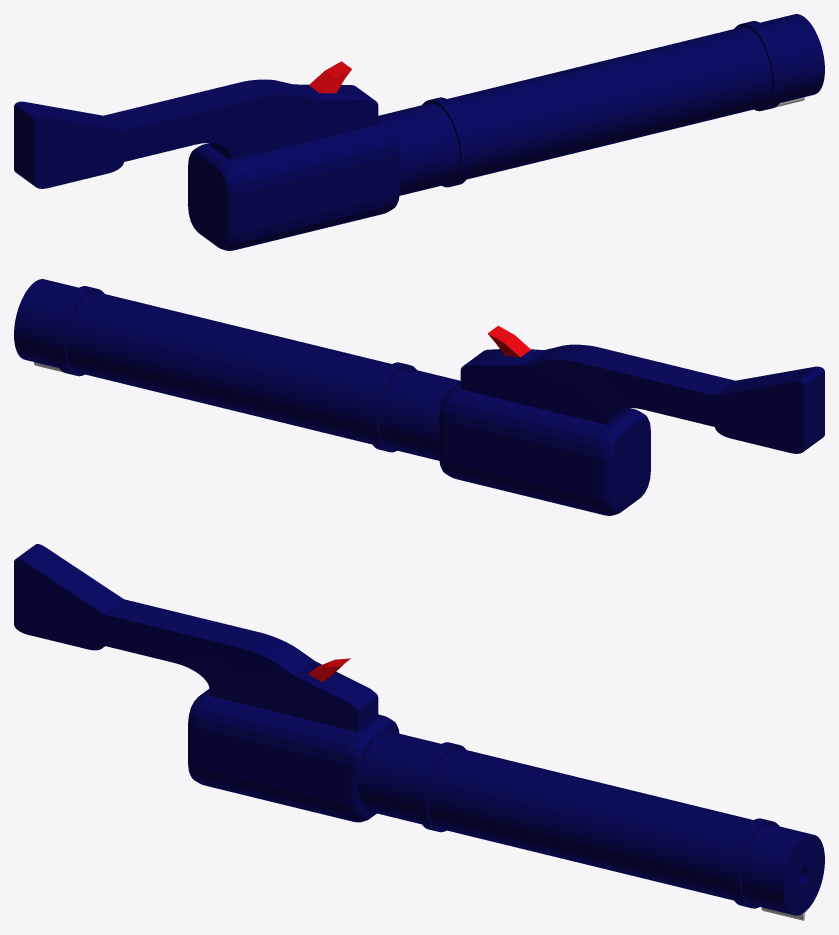
File: Harpoon Gun.fbx
The picture shows the model from 3 angles, top to bottom: view 1: azimuth 30°, elevation 25°; view 2: azimuth 150°, elevation 25°; view 3: azimuth 330°, elevation 25°; orthographic projection.
Visible parts, largest first — view 1: Cube, Cylinder; view 2: Cube, Cylinder; view 3: Cube, Cylinder.
Part boxes in pixels (x1,y1,x2,y2): Cube: [14, 61, 399, 250]; Cylinder: [378, 14, 824, 195]; Cube: [439, 325, 824, 515]; Cylinder: [14, 279, 460, 460]; Cube: [14, 544, 399, 822]; Cylinder: [357, 731, 824, 920].
Size of the model in its own units: 543 by 120 by 53.99.
